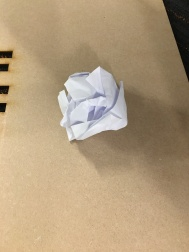paper_brown: (50, 61, 142, 148)
